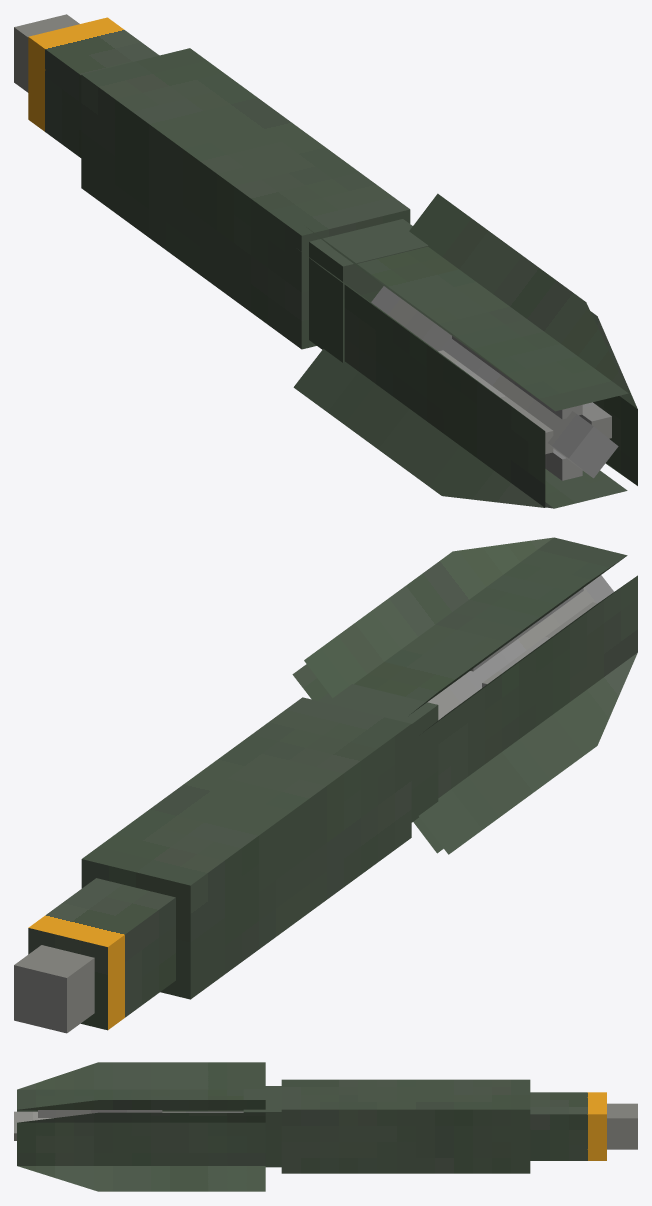
Rendered from snakeye.obj.
3 views of the same model, one above another, from view 1: azimuth 30°, elevation 25°; view 2: azimuth 150°, elevation 25°; view 3: azimuth 270°, elevation 25° (orthographic). The views are drawn at different scales.
Visible parts, largest first — view 1: cube7, cube.006, cube.005, cube5, cube6, cube0, cube.002, cube.001, cube.008, cube.007, cube8, cube1 (+1 smaller); view 2: cube7, cube.006, cube.005, cube5, cube8, cube6, cube.002, cube.001, cube0; view 3: cube7, cube.008, cube.005, cube5, cube.004, cube6, cube8, cube.001, cube4, cube0.
Boxes of the visible parts, <box> form: cube7: <box>81,48,410,349</box>; cube.006: <box>293,249,545,507</box>; cube.005: <box>306,193,628,411</box>; cube5: <box>28,17,159,157</box>; cube6: <box>309,219,428,362</box>; cube0: <box>371,286,618,478</box>; cube.002: <box>294,267,545,503</box>; cube.001: <box>310,198,618,410</box>; cube.008: <box>590,311,637,485</box>; cube.007: <box>545,469,627,508</box>; cube8: <box>14,14,79,92</box>; cube1: <box>438,350,553,454</box>; cube7: <box>81,697,411,999</box>; cube.006: <box>419,575,637,854</box>; cube.005: <box>304,537,627,713</box>; cube5: <box>28,878,175,1030</box>; cube8: <box>14,945,94,1033</box>; cube6: <box>318,684,438,822</box>; cube.002: <box>423,581,637,852</box>; cube.001: <box>308,540,623,706</box>; cube0: <box>427,575,613,720</box>; cube7: <box>281,1079,530,1173</box>; cube.008: <box>17,1112,265,1191</box>; cube.005: <box>17,1062,265,1109</box>; cube5: <box>530,1092,606,1160</box>; cube.004: <box>17,1113,265,1191</box>; cube6: <box>243,1086,281,1167</box>; cube8: <box>607,1103,637,1149</box>; cube.001: <box>17,1062,265,1109</box>; cube4: <box>38,1110,162,1117</box>; cube0: <box>14,1111,243,1140</box>.
Bounding box in the file's own units: 0.3316 × 0.3316 × 2.04.
